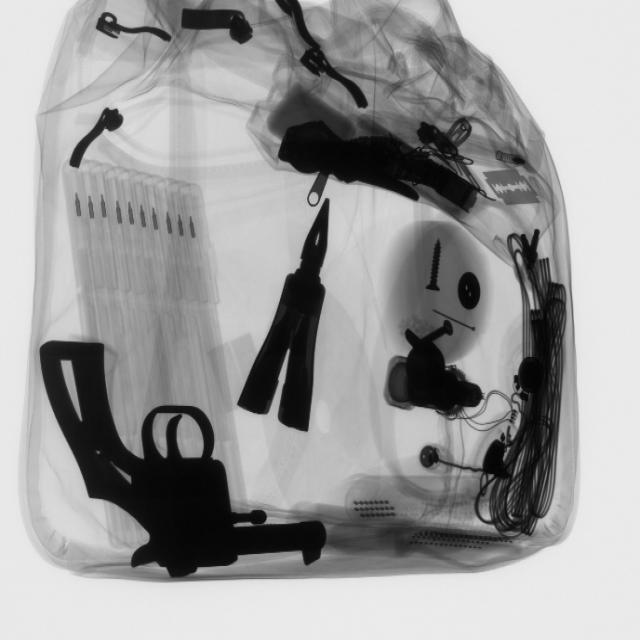BLADE: (482, 163, 544, 213)
GUN: (39, 336, 330, 573)
SCREW: (413, 232, 460, 303)
